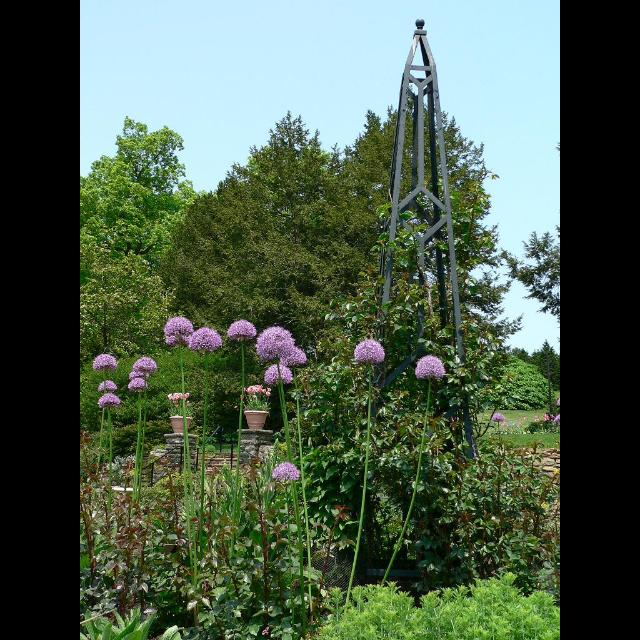Flower: (254, 324, 294, 362), (517, 398, 559, 422), (354, 338, 386, 364), (416, 356, 446, 382), (190, 328, 222, 352), (228, 318, 256, 342), (272, 461, 300, 485), (264, 363, 294, 385), (282, 347, 308, 369), (163, 316, 191, 336), (92, 352, 118, 373), (95, 394, 123, 410), (240, 384, 272, 398), (133, 358, 157, 376), (130, 374, 148, 396), (166, 335, 188, 349), (168, 392, 188, 406), (128, 370, 148, 380), (99, 381, 117, 391), (491, 412, 505, 422)
